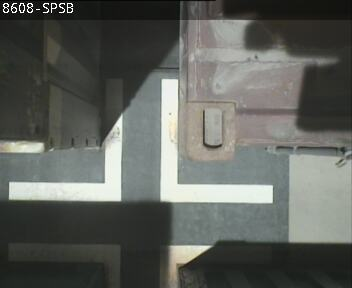groundmarker_1: (9, 79, 272, 201)
